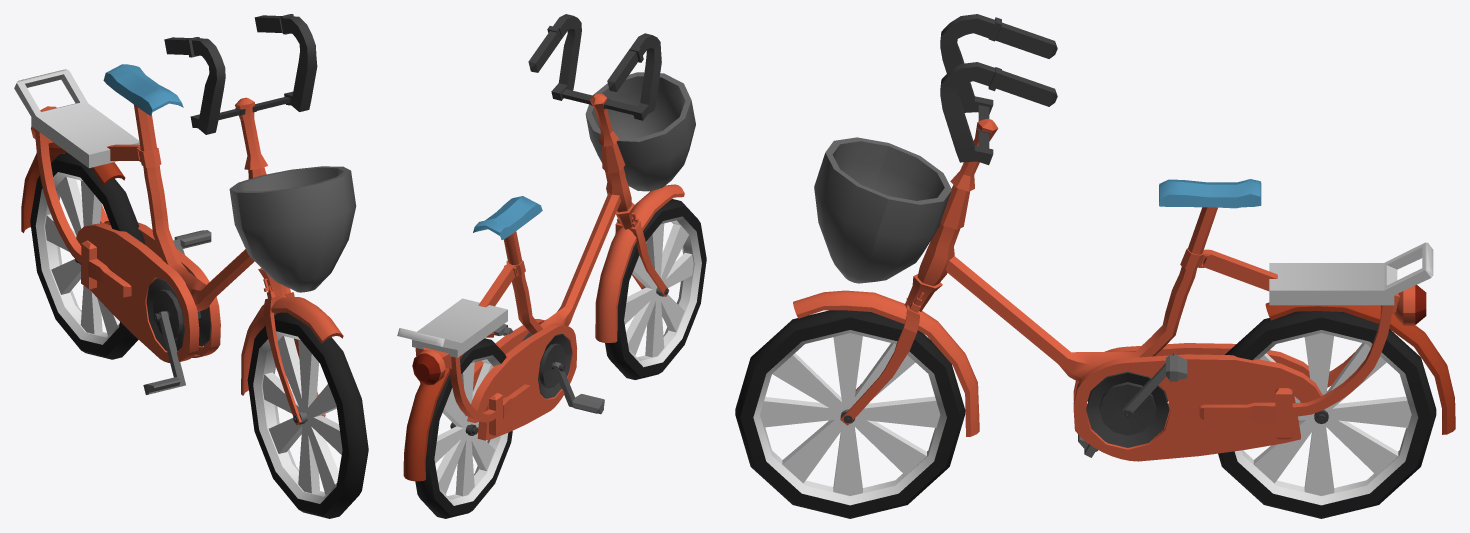
Rendered from Cycle.fbx.
3 renders of one model, left to right at view 1: azimuth 30°, elevation 25°; view 2: azimuth 150°, elevation 25°; view 3: azimuth 270°, elevation 25°, orthographic. The views are drawn at different scales.
Visible parts, largest first — view 1: Cycle, Handle, FR_Tyre, BK_Tyre, Paddle; view 2: Cycle, Handle, FR_Tyre, BK_Tyre, Paddle; view 3: Cycle, Handle, FR_Tyre, BK_Tyre, Paddle.
Boxes of the visible parts, left/top/right/bottom form: Cycle: left=14, top=64, right=254, bottom=362; Handle: left=164, top=14, right=356, bottom=425; FR_Tyre: left=247, top=312, right=368, bottom=518; BK_Tyre: left=30, top=153, right=145, bottom=359; Paddle: left=143, top=230, right=211, bottom=394; Cycle: left=397, top=193, right=620, bottom=481; Handle: left=528, top=14, right=695, bottom=342; FR_Tyre: left=605, top=199, right=706, bottom=379; BK_Tyre: left=415, top=338, right=512, bottom=518; Paddle: left=493, top=324, right=604, bottom=414; Cycle: left=946, top=179, right=1455, bottom=461; Handle: left=793, top=14, right=1057, bottom=436; FR_Tyre: left=735, top=310, right=965, bottom=518; BK_Tyre: left=1218, top=311, right=1436, bottom=518; Paddle: left=1078, top=353, right=1187, bottom=457.
Size of the model in its own units: 58.97 by 232 by 319.
1 material, 1 textured.
